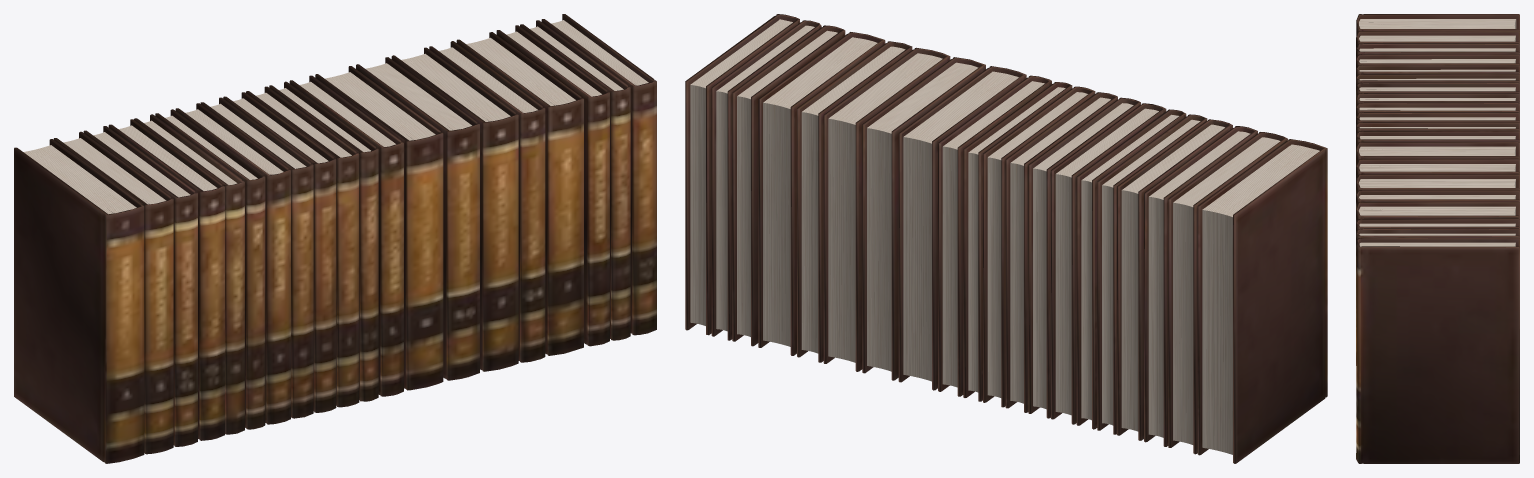
File: book_encyclopedia_set_01.glb
3 renders of one model, left to right at view 1: azimuth 30°, elevation 25°; view 2: azimuth 150°, elevation 25°; view 3: azimuth 270°, elevation 25°, orthographic. The views are drawn at different scales.
Visible parts, largest first — view 1: book_encyclopedia_set_01_book01; view 2: book_encyclopedia_set_01_book01; view 3: book_encyclopedia_set_01_book01.
Part boxes in pixels (box(x1,y1,x2,y2)): book_encyclopedia_set_01_book01: box(14, 14, 656, 463); book_encyclopedia_set_01_book01: box(685, 14, 1327, 463); book_encyclopedia_set_01_book01: box(1356, 14, 1519, 463).
Size of the model in its own units: 0.5513 by 0.2374 by 0.1631.
2 materials, 2 textured.
